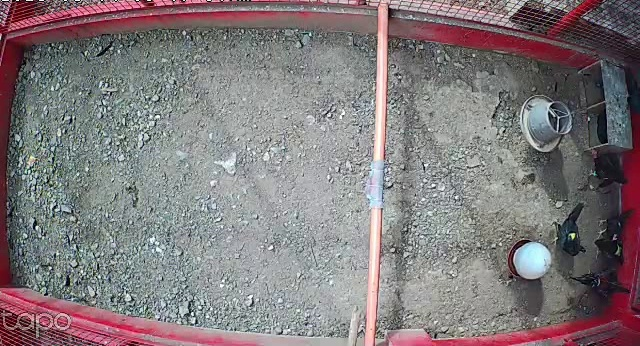Chicken: (548, 201, 588, 257), (582, 145, 630, 188), (594, 204, 635, 245), (591, 232, 631, 272)
Rooster: (570, 264, 632, 306)
Saddle_Color_Yellow: (567, 231, 579, 240)
